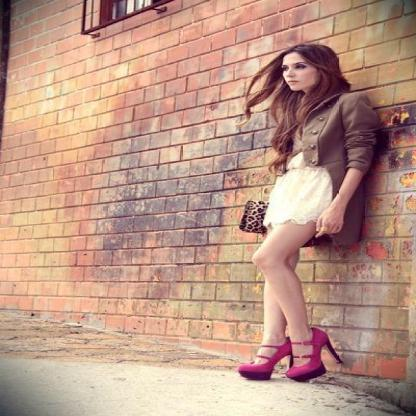bag: (239, 215, 266, 236)
dress: (263, 158, 336, 227)
jacket: (291, 95, 381, 252)
shoe: (238, 327, 343, 382)
